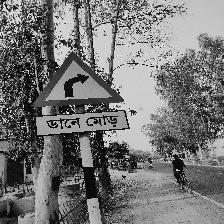Right-turn: (32, 52, 127, 136)
